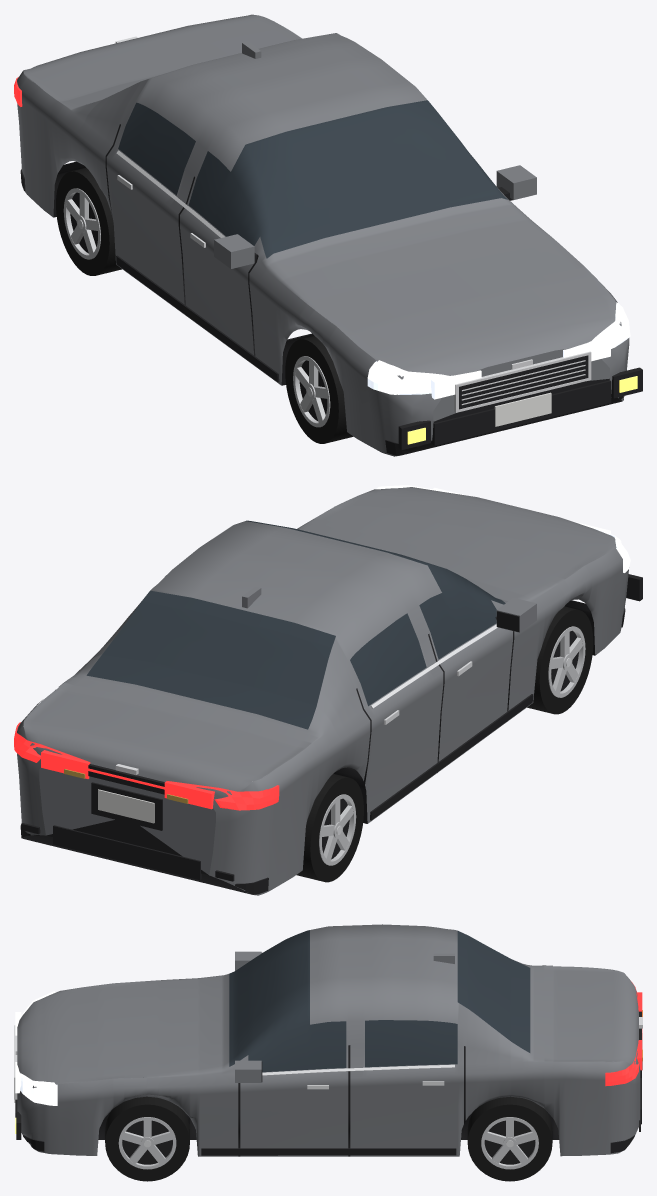
The model's file is kia-cerato-2021.glb.
The picture shows the model from 3 angles, top to bottom: view 1: azimuth 30°, elevation 25°; view 2: azimuth 150°, elevation 25°; view 3: azimuth 270°, elevation 25°; orthographic projection. The views are drawn at different scales.
Visible parts, largest first — view 1: steel-grey-paint, tinted-glass, black-trim, tyre, alloy-wheel, chrome, headlamp, number-plate, drl; view 2: steel-grey-paint, tinted-glass, black-trim, tyre, tail-lamp, alloy-wheel, number-plate, chrome; view 3: steel-grey-paint, tinted-glass, tyre, black-trim, alloy-wheel, chrome, headlamp, tail-lamp.
Boxes of the visible parts, x1,y1,x2,y2 form: steel-grey-paint: [17, 14, 629, 456]; tinted-glass: [118, 100, 507, 258]; black-trim: [20, 124, 642, 455]; tyre: [56, 167, 353, 443]; alloy-wheel: [63, 188, 330, 427]; chrome: [78, 36, 591, 412]; headlamp: [367, 303, 630, 399]; number-plate: [494, 392, 551, 426]; drl: [376, 302, 622, 378]; steel-grey-paint: [17, 487, 628, 895]; tinted-glass: [86, 520, 505, 729]; black-trim: [20, 574, 642, 894]; tyre: [296, 606, 593, 882]; tail-lamp: [14, 722, 279, 810]; alloy-wheel: [319, 626, 585, 865]; number-plate: [98, 789, 154, 823]; chrome: [115, 624, 571, 834]; steel-grey-paint: [17, 924, 640, 1156]; tinted-glass: [229, 930, 530, 1072]; tyre: [105, 1096, 552, 1181]; black-trim: [15, 1011, 641, 1164]; alloy-wheel: [118, 1117, 538, 1169]; chrome: [14, 1017, 642, 1147]; headlamp: [15, 992, 57, 1105]; tail-lamp: [605, 981, 642, 1086].
Size of the model in its own units: 2.08 by 1.46 by 4.68.
